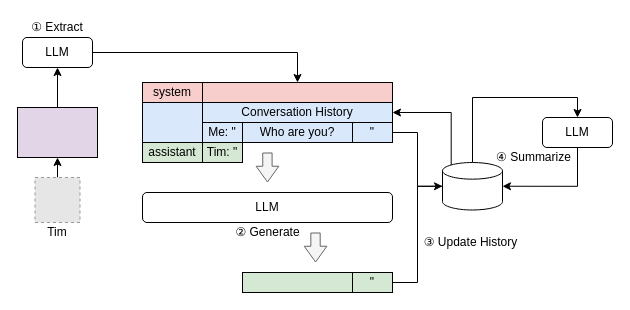
The diagram is 630 pixels wide and 310 high, and some of its shapes have lost their labels. Grey dashed boxes stand in for pictures. Here are the shapes that lost their labels. From the top down, the centre of each, then its label:
point (297, 92): You act as Tim. Tim is ...
point (57, 132): Character Resource
point (172, 122): user
point (472, 186): History
point (297, 282): I am Tim
